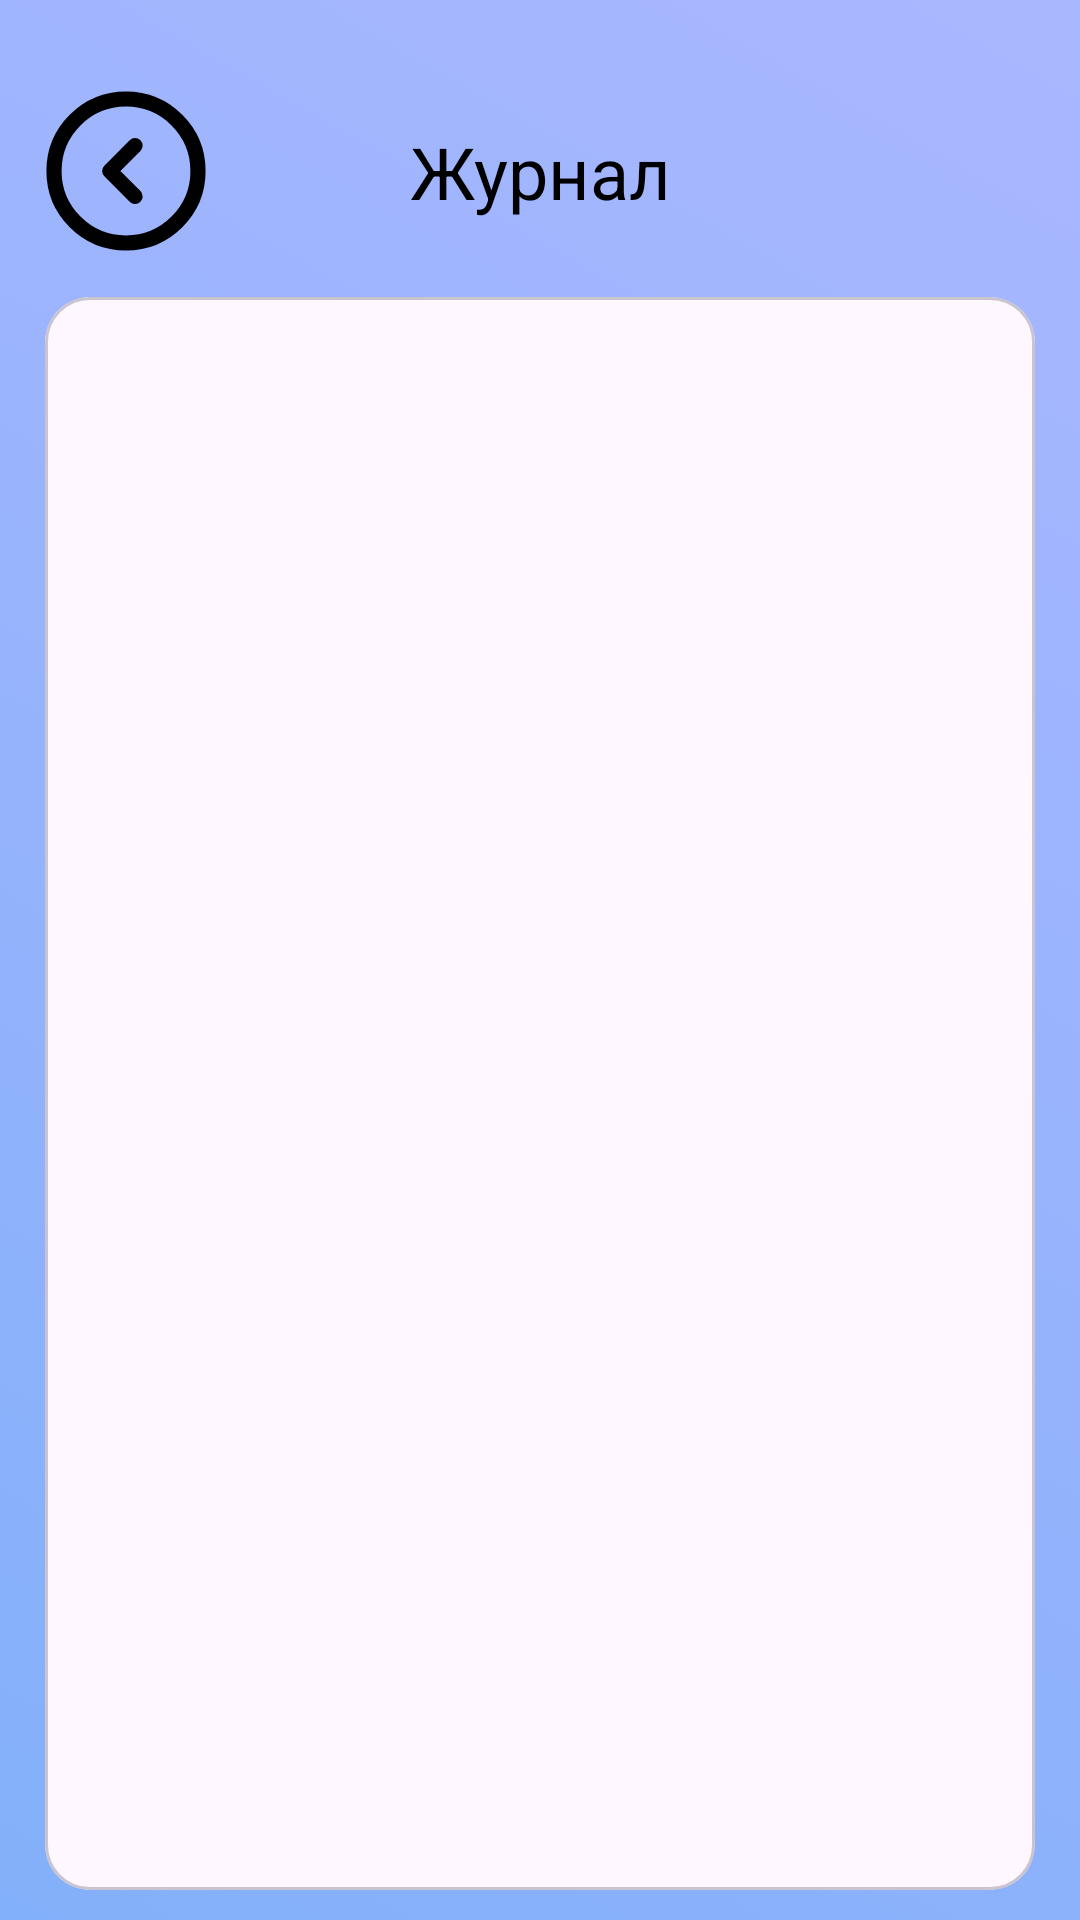

Icon bounding boxes for this 1080px×1920px phone screenshot, format bbox=[x1, y1, x2, y2]:
arrow left: bbox=[46, 91, 206, 251]
